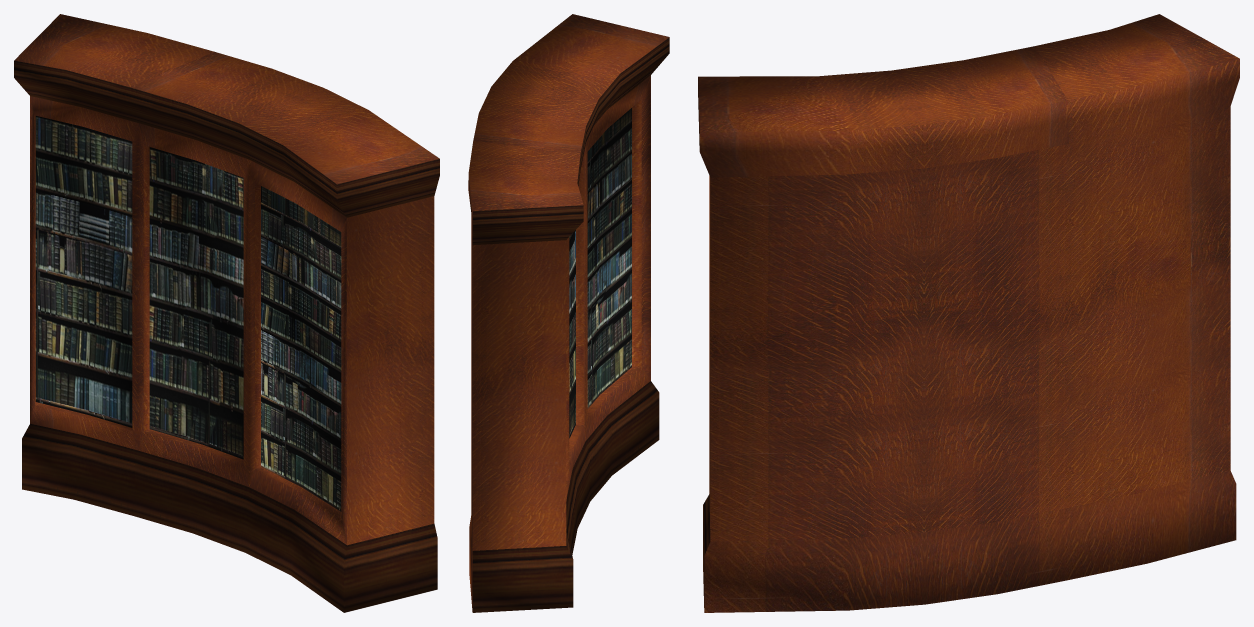
File: BookcaseCurvedShortMed.fbx
3 views of the same model, side by side, from view 1: azimuth 30°, elevation 25°; view 2: azimuth 150°, elevation 25°; view 3: azimuth 270°, elevation 25° (orthographic). The views are drawn at different scales.
Visible parts, largest first — view 1: BookcaselongcurvedmedS; view 2: BookcaselongcurvedmedS; view 3: BookcaselongcurvedmedS.
Boxes of the visible parts, left/top/right/bottom form: BookcaselongcurvedmedS: left=14, top=14, right=439, bottom=612; BookcaselongcurvedmedS: left=468, top=14, right=669, bottom=612; BookcaselongcurvedmedS: left=698, top=14, right=1239, bottom=612.
Bounding box in the file's own units: 177 × 334 × 342.
